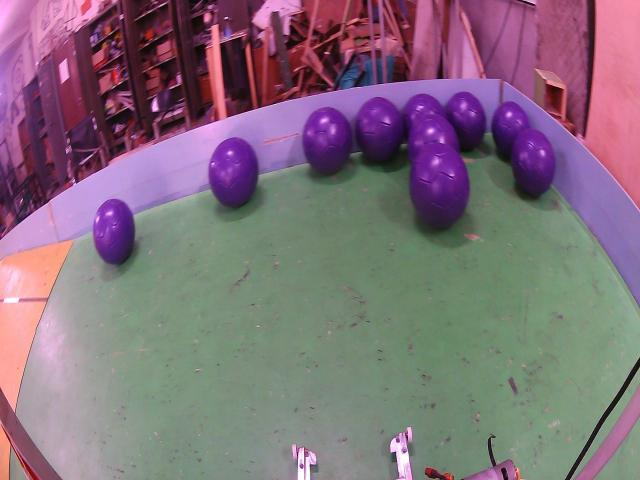jambhalya: (410, 143, 470, 228), (209, 137, 259, 207), (302, 107, 352, 173), (355, 97, 404, 162), (511, 128, 555, 197), (92, 198, 135, 264), (408, 113, 460, 161), (445, 92, 486, 150), (491, 102, 530, 157), (402, 93, 445, 136)
